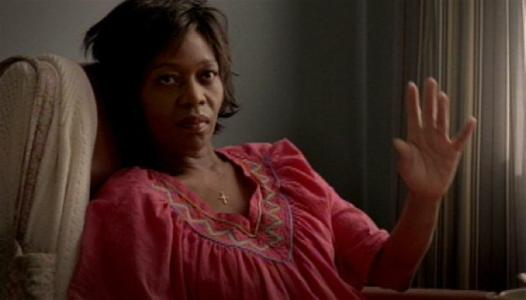person: (66, 1, 477, 300)
